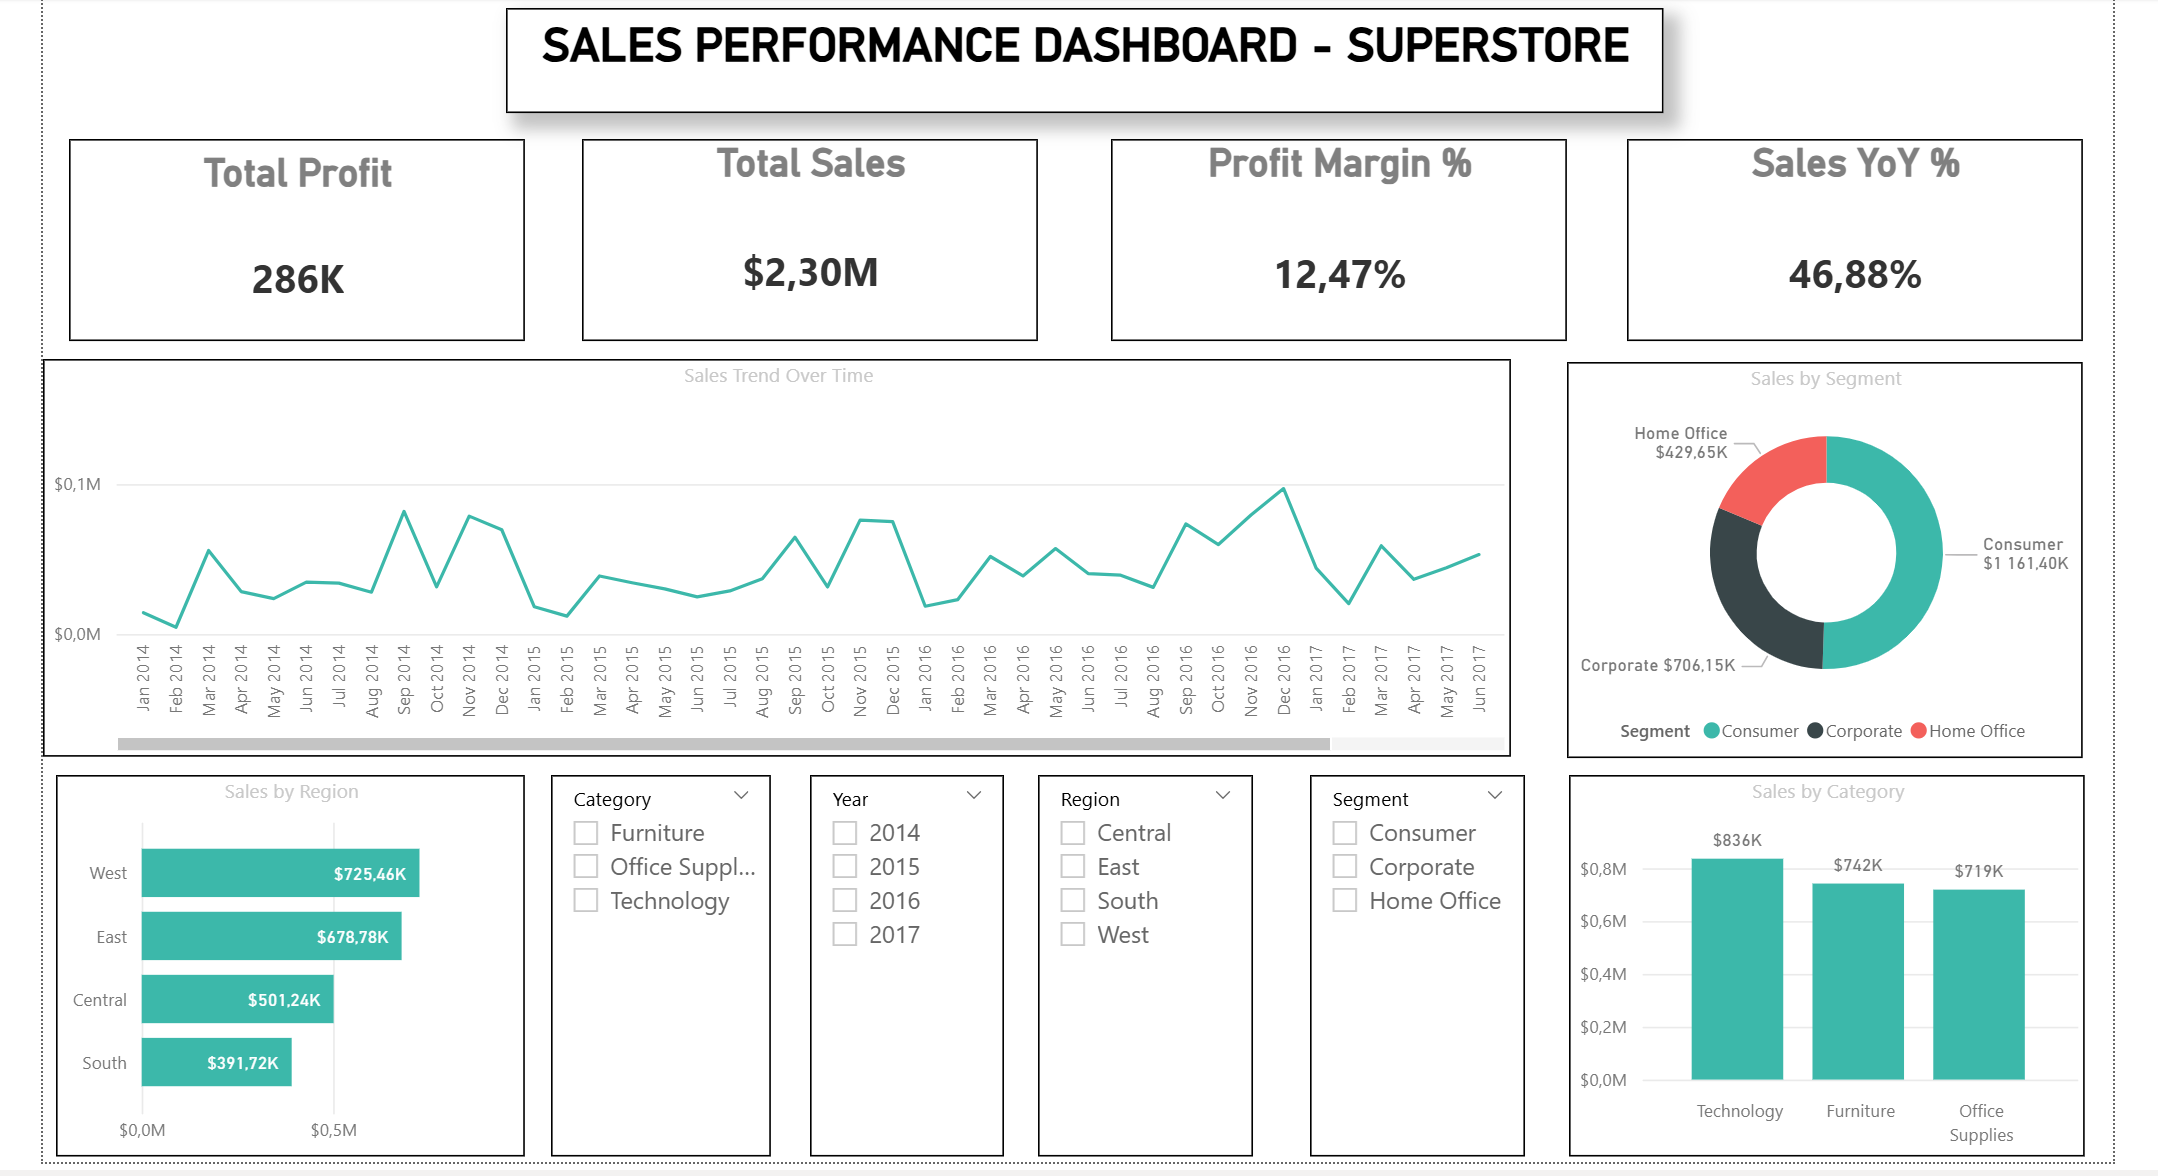

What the dashboard file says about the page in this screenshot:
{"tool":"powerbi","page":{"name":"Page 1","canvas":[1280,720],"ordinal":0},"visuals":[{"type":"cardVisual","title":"Total Profit","fields":{"Data":["Fact_Orders.Total_Profit"]},"box":[16.2,87.4,281.7,124.7],"z":0},{"type":"cardVisual","title":"Total Sales","fields":{"Data":["Fact_Orders.Total_Sales"]},"box":[333.6,87.4,281.7,124.7],"z":1000},{"type":"cardVisual","title":"Profit Margin %","fields":{"Data":["Fact_Orders.Profit_Margin %"]},"box":[660.6,87.4,281.7,124.7],"z":2000},{"type":"cardVisual","title":"Sales YoY %","fields":{"Data":["Fact_Orders.Sales YoY %"]},"box":[979.6,87.4,281.7,124.7],"z":3000},{"type":"barChart","title":"Sales by Region","fields":{"Y":["Fact_Orders.Total_Sales"],"Category":["Dim_Region.Region"]},"box":[8.1,480.9,289.8,236.4],"z":4000},{"type":"columnChart","title":"Sales by Category","fields":{"Y":["Fact_Orders.Total_Sales"],"Category":["Dim_Category.Category"]},"box":[944,480.9,319,236.4],"z":5000},{"type":"donutChart","title":"Sales by Segment","fields":{"Y":["Fact_Orders.Total_Sales"],"Category":["Dim_Segment.Segment"]},"box":[942.4,225.1,319,244.5],"z":6000},{"type":"lineChart","title":"Sales Trend Over Time","fields":{"Category":["DIm_Date.Month Year"],"Y":["Fact_Orders.Total_Sales"]},"box":[0,223.5,908.4,246.1],"z":7000},{"type":"slicer","fields":{"Values":["DIm_Date.Year"]},"box":[474.4,480.9,119.8,236.4],"z":8000},{"type":"slicer","fields":{"Values":["Fact_Orders.Category"]},"box":[314.1,480.9,136,236.4],"z":9000},{"type":"slicer","fields":{"Values":["Dim_Region.Region"]},"box":[615.3,480.9,132.8,236.4],"z":10000},{"type":"slicer","fields":{"Values":["Dim_Segment.Segment"]},"box":[783.7,480.9,132.8,236.4],"z":11000},{"type":"textbox","box":[286.6,6.5,715.7,64.8],"z":12000}]}

Visuals, with their boxes in screenshot pixels (x1, y1, x2, y2):
"Total Profit" cardVisual: [left=71, top=135, right=524, bottom=336]
"Total Sales" cardVisual: [left=582, top=135, right=1035, bottom=336]
"Profit Margin %" cardVisual: [left=1108, top=135, right=1561, bottom=336]
"Sales YoY %" cardVisual: [left=1621, top=135, right=2074, bottom=336]
"Sales by Region" barChart: [left=58, top=768, right=524, bottom=1148]
"Sales by Category" columnChart: [left=1564, top=768, right=2077, bottom=1148]
"Sales by Segment" donutChart: [left=1561, top=357, right=2074, bottom=750]
"Sales Trend Over Time" lineChart: [left=45, top=354, right=1506, bottom=750]
slicer - DIm_Date.Year: [left=808, top=768, right=1001, bottom=1148]
slicer - Fact_Orders.Category: [left=550, top=768, right=769, bottom=1148]
slicer - Dim_Region.Region: [left=1035, top=768, right=1248, bottom=1148]
slicer - Dim_Segment.Segment: [left=1306, top=768, right=1519, bottom=1148]
textbox: [left=506, top=5, right=1657, bottom=109]
